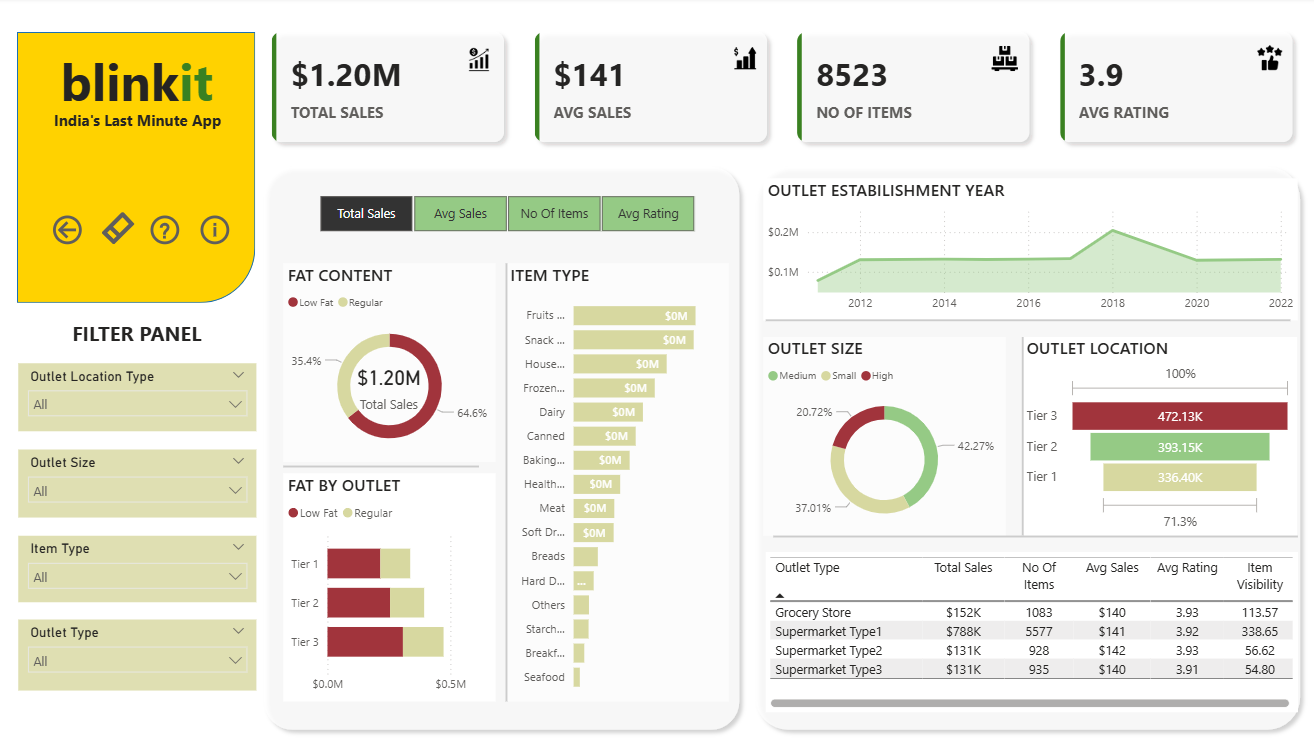

This screenshot's page, from the dashboard's own definition file:
{"tool":"powerbi","page":{"name":"Page 1","canvas":[1400,800],"ordinal":0},"visuals":[{"type":"textbox","box":[61.5,37.5,169.6,76.5],"z":0},{"type":"cardVisual","fields":{"Data":["BlinkIT Grocery Data.Total Sales","BlinkIT Grocery Data.Avg Sales","BlinkIT Grocery Data.No Of Items","BlinkIT Grocery Data.Avg Rating"]},"box":[273.2,19.5,1115.1,151.6],"z":1000},{"type":"shape","box":[21,37.5,252.1,286.7],"z":2000},{"type":"textbox","box":[48.9,113.8,199.7,33.1],"z":3000},{"type":"textbox","box":[54,48,187.6,81],"z":4000},{"type":"image","box":[774.4,48,36,34.5],"z":5000},{"type":"image","box":[1328.3,46.5,37.5,36],"z":6000},{"type":"image","box":[492.3,49.5,36,34.5],"z":7000},{"type":"image","box":[1047.6,46.5,37.5,37.5],"z":8000},{"type":"shape","box":[273.2,171.1,520.8,613.9],"z":9000},{"type":"donutChart","title":"FAT CONTENT","fields":{"Y":["BlinkIT Grocery Data.Avg Sales"],"Category":["BlinkIT Grocery Data.Item Fat Content"]},"box":[303.2,282.2,225.1,210.1],"z":10000},{"type":"slicer","fields":{"Values":["metrices.metrices"]},"box":[316.7,204.1,445.8,51],"z":11000},{"type":"card","fields":{"Values":["BlinkIT Grocery Data.Avg Sales"]},"box":[369.2,376.7,91.6,69],"z":12000},{"type":"barChart","title":"ITEM TYPE","fields":{"Y":["BlinkIT Grocery Data.Avg Sales"],"Category":["BlinkIT Grocery Data.Item Type"]},"box":[538.8,282.2,235.6,463.8],"z":13000},{"type":"barChart","title":"FAT BY OUTLET","fields":{"Y":["BlinkIT Grocery Data.Avg Sales"],"Category":["BlinkIT Grocery Data.Outlet Location Type"],"Series":["BlinkIT Grocery Data.Item Fat Content"]},"box":[303.2,504.3,225.1,241.6],"z":14000},{"type":"shape","box":[794,171.1,594.3,613.9],"z":15000},{"type":"lineChart","title":" OUTLET ESTABILISHMENT YEAR","fields":{"Y":["BlinkIT Grocery Data.Total Sales"],"Category":["BlinkIT Grocery Data.Outlet Establishment Year"]},"box":[810.5,192.1,565.8,150.1],"z":16000},{"type":"donutChart","title":"OUTLET SIZE","fields":{"Y":["BlinkIT Grocery Data.Total Sales"],"Category":["BlinkIT Grocery Data.Outlet Size"]},"box":[810.5,360.2,256.6,210.1],"z":17000},{"type":"shape","box":[303.2,478.8,207.1,36],"z":18000},{"type":"shape","box":[813.5,324.2,555.3,36],"z":19000},{"type":"funnel","title":"OUTLET LOCATION","fields":{"Y":["Sum(BlinkIT Grocery Data.Sales)"],"Category":["BlinkIT Grocery Data.Outlet Location Type"]},"box":[1085.1,360.2,291.2,210.1],"z":20000},{"type":"shape","box":[1062.6,360.2,46.5,210.1],"z":21000},{"type":"pivotTable","fields":{"Rows":["BlinkIT Grocery Data.Outlet Type"],"Values":["BlinkIT Grocery Data.Total Sales","BlinkIT Grocery Data.No Of Items","BlinkIT Grocery Data.Avg Sales","BlinkIT Grocery Data.Avg Rating","Sum(BlinkIT Grocery Data.Item Visibility)"]},"box":[813.5,586.8,562.8,169.6],"z":22000},{"type":"shape","box":[821,552.3,555.3,36],"z":23000},{"type":"shape","box":[516.3,282.2,46.5,463.8],"z":24000},{"type":"slicer","fields":{"Values":["BlinkIT Grocery Data.Outlet Location Type"]},"box":[22.5,387.2,252.1,72],"z":25000},{"type":"slicer","fields":{"Values":["BlinkIT Grocery Data.Outlet Size"]},"box":[22.5,478.8,252.1,72],"z":26000},{"type":"slicer","fields":{"Values":["BlinkIT Grocery Data.Item Type"]},"box":[22.5,570.3,252.1,70.5],"z":27000},{"type":"slicer","fields":{"Values":["BlinkIT Grocery Data.Outlet Type"]},"box":[22.5,658.9,252.1,75],"z":28000},{"type":"textbox","box":[21,336.2,253.6,40.5],"z":29000},{"type":"actionButton","box":[54,226.6,42,40.5],"z":30000},{"type":"actionButton","box":[157.6,226.6,42,40.5],"z":31000},{"type":"actionButton","box":[210.1,226.6,42,40.5],"z":32000},{"type":"actionButton","box":[106.6,222.1,42,45],"z":33000}]}

Visuals, with their boxes in screenshot pixels (x1, y1, x2, y2), scaled from the page's 1400x800 canvas onto the 1314x743 screenshot:
textbox: [58,35,217,106]
cardVisual - BlinkIT Grocery Data.Total Sales x BlinkIT Grocery Data.Avg Sales: [256,18,1303,159]
shape: [20,35,256,301]
textbox: [46,106,233,136]
textbox: [51,45,227,120]
image: [727,45,761,77]
image: [1247,43,1282,77]
image: [462,46,496,78]
image: [983,43,1018,78]
shape: [256,159,745,729]
"FAT CONTENT" donutChart: [285,262,496,457]
slicer - metrices.metrices: [297,190,716,237]
card - BlinkIT Grocery Data.Avg Sales: [347,350,432,414]
"ITEM TYPE" barChart: [506,262,727,693]
"FAT BY OUTLET" barChart: [285,468,496,693]
shape: [745,159,1303,729]
" OUTLET ESTABILISHMENT YEAR" lineChart: [761,178,1292,318]
"OUTLET SIZE" donutChart: [761,335,1002,530]
shape: [285,445,479,478]
shape: [764,301,1285,335]
"OUTLET LOCATION" funnel: [1018,335,1292,530]
shape: [997,335,1041,530]
pivotTable - BlinkIT Grocery Data.Outlet Type x BlinkIT Grocery Data.Total Sales: [764,545,1292,703]
shape: [771,513,1292,546]
shape: [485,262,528,693]
slicer - BlinkIT Grocery Data.Outlet Location Type: [21,360,258,426]
slicer - BlinkIT Grocery Data.Outlet Size: [21,445,258,512]
slicer - BlinkIT Grocery Data.Item Type: [21,530,258,595]
slicer - BlinkIT Grocery Data.Outlet Type: [21,612,258,682]
textbox: [20,312,258,350]
actionButton: [51,210,90,248]
actionButton: [148,210,187,248]
actionButton: [197,210,237,248]
actionButton: [100,206,139,248]
